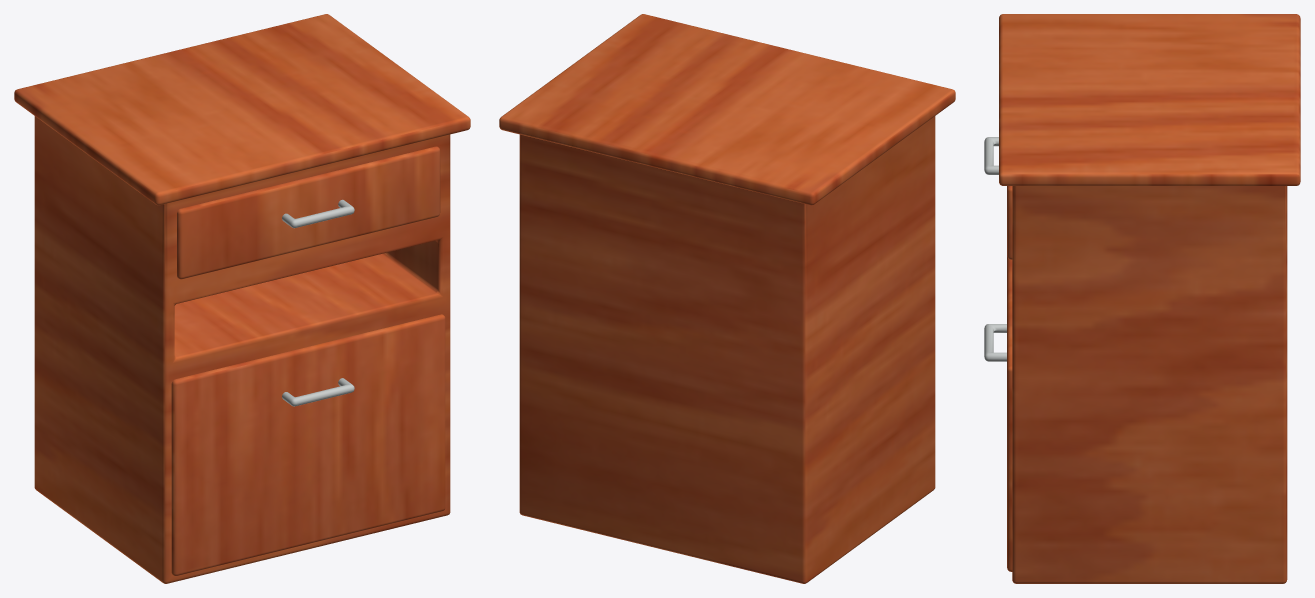
The model's file is cabinet_3.gltf.
3 views of the same model, side by side, from view 1: azimuth 30°, elevation 25°; view 2: azimuth 150°, elevation 25°; view 3: azimuth 270°, elevation 25° (orthographic). The views are drawn at different scales.
Visible parts, largest first — view 1: node0; view 2: node0; view 3: node0.
Boxes of the visible parts, <box> form: node0: <box>14,14,470,583</box>; node0: <box>499,14,955,583</box>; node0: <box>984,14,1300,583</box>.
Size of the model in its own units: 0.6514 by 0.7887 by 0.5396.
1 material, 1 textured.
